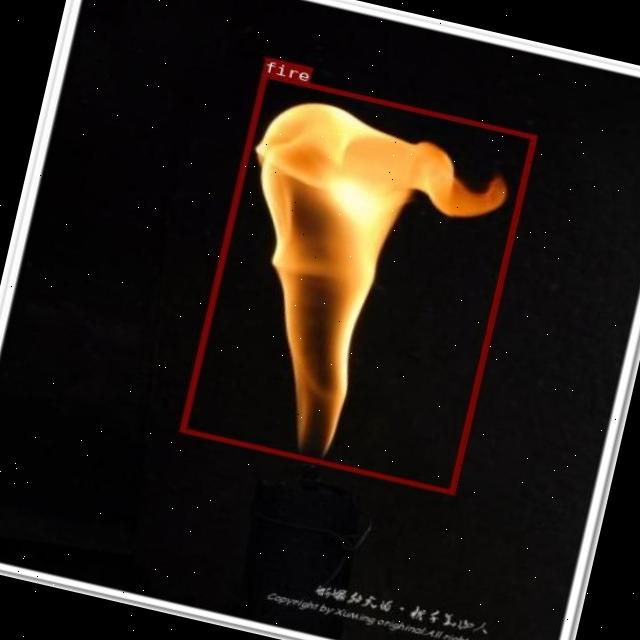fire: (178, 71, 536, 494)
